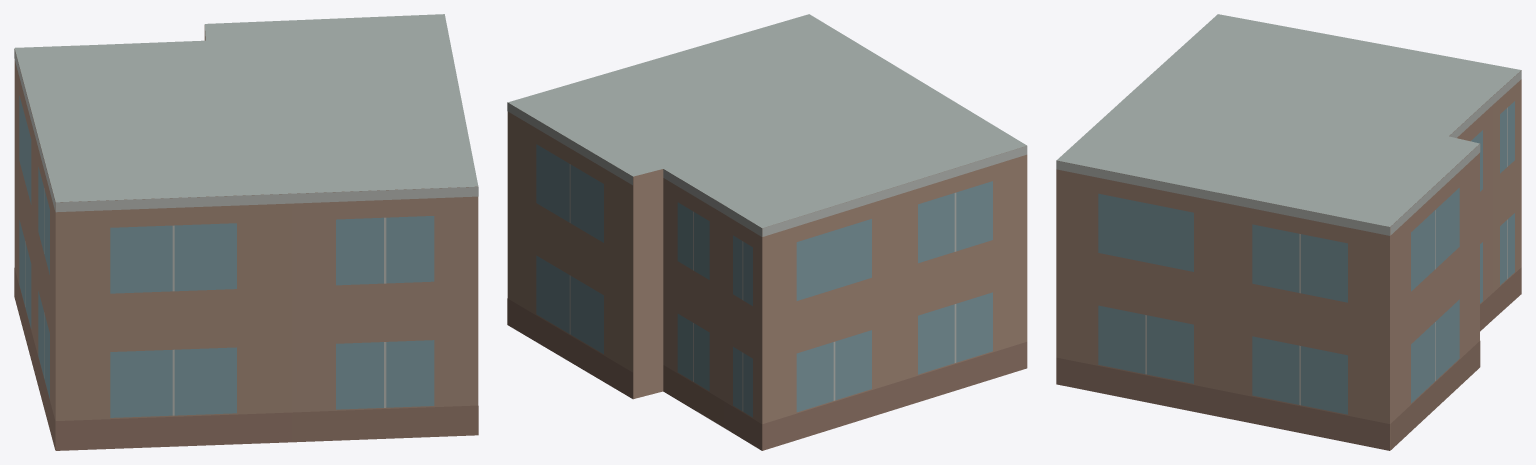
The model's file is survey-upis-32524561.glb.
3 views of the same model, side by side, from view 1: azimuth 30°, elevation 25°; view 2: azimuth 150°, elevation 25°; view 3: azimuth 270°, elevation 25° (orthographic). The views are drawn at different scales.
Parts seen in each view (by area): view 1: survey-upis-32524561.tmp; view 2: survey-upis-32524561.tmp; view 3: survey-upis-32524561.tmp.
Part boxes in pixels (<box>): survey-upis-32524561.tmp: <box>14,14,478,450</box>; survey-upis-32524561.tmp: <box>507,14,1027,450</box>; survey-upis-32524561.tmp: <box>1056,14,1521,450</box>.
Size of the model in its own units: 12.46 by 6.1 by 11.5.
